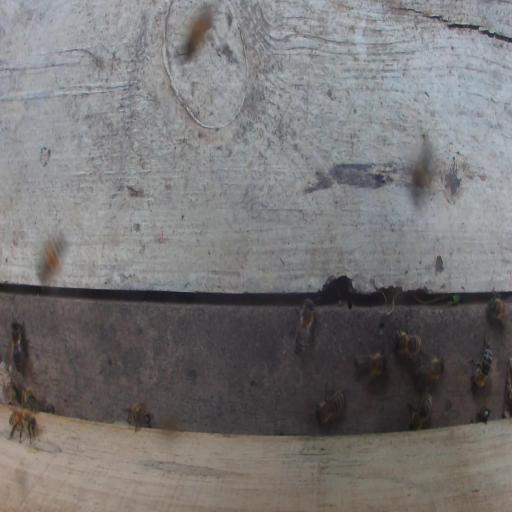nonpollenbee: (393, 313, 422, 362), (468, 333, 492, 390), (184, 11, 214, 56), (294, 297, 315, 358), (7, 407, 40, 445), (314, 389, 346, 425), (354, 346, 387, 380), (407, 390, 433, 431), (413, 355, 443, 390), (10, 319, 27, 372), (125, 403, 153, 433), (486, 291, 506, 328), (21, 386, 37, 411), (473, 405, 491, 424)
pollenbee: (36, 227, 68, 285)
